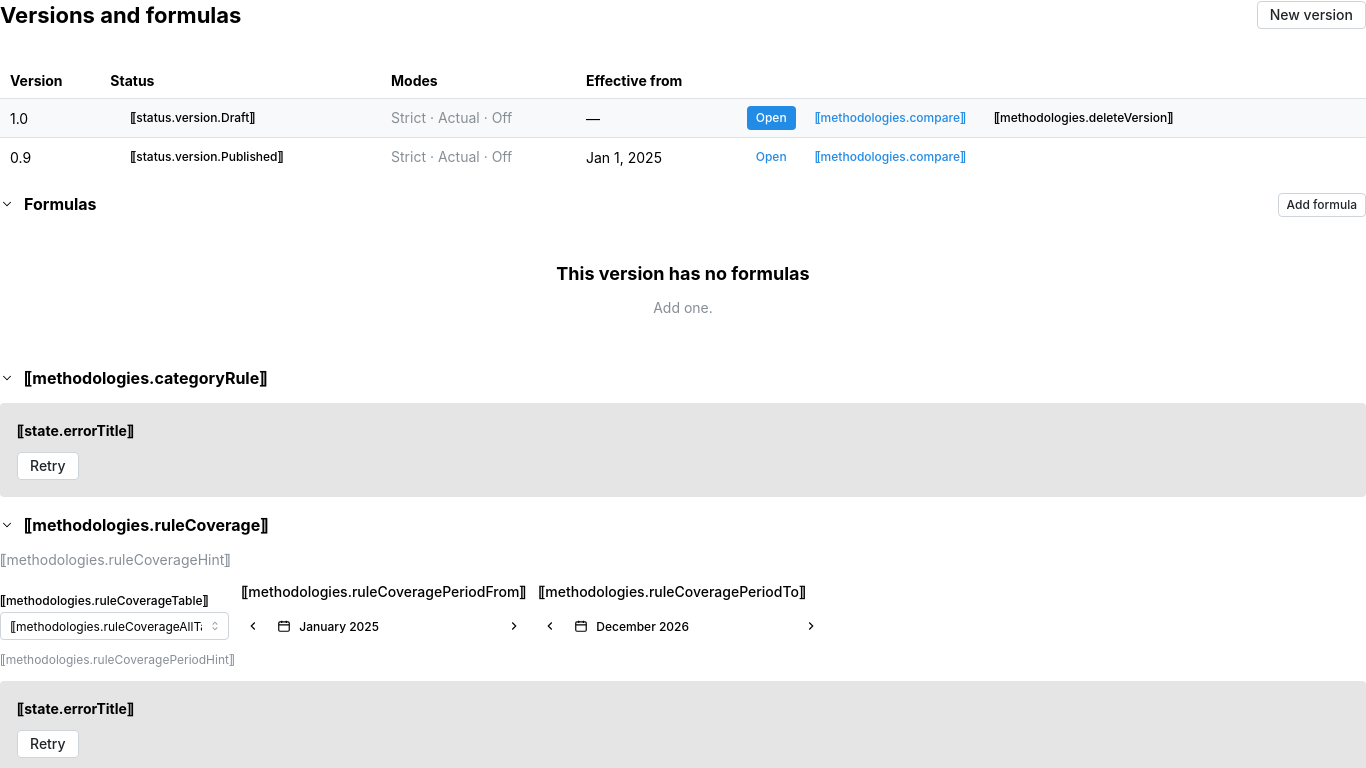
Test: MethodologyVersionsPage: відмова читання не виглядає як «нічого не заведено» › версії приїхали — «Copy from» доступний, і банера в діалозі нової версії немає
Expected: the text "1.0" is shown, [0,99,100,138]
Click the button "New version" at (1311, 15), box [1257,1,1365,29]
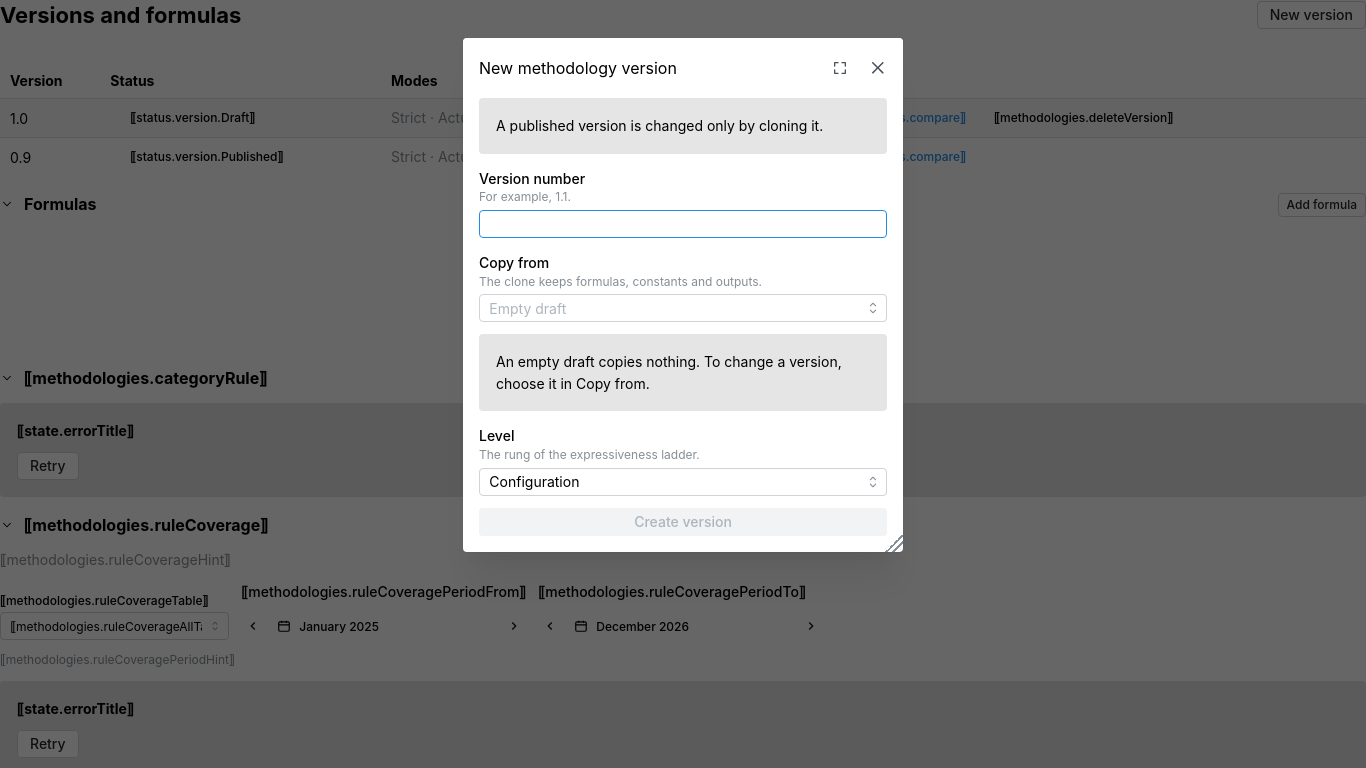
Expected: the field labelled "Copy from" is enabled, [479,294,887,322]
